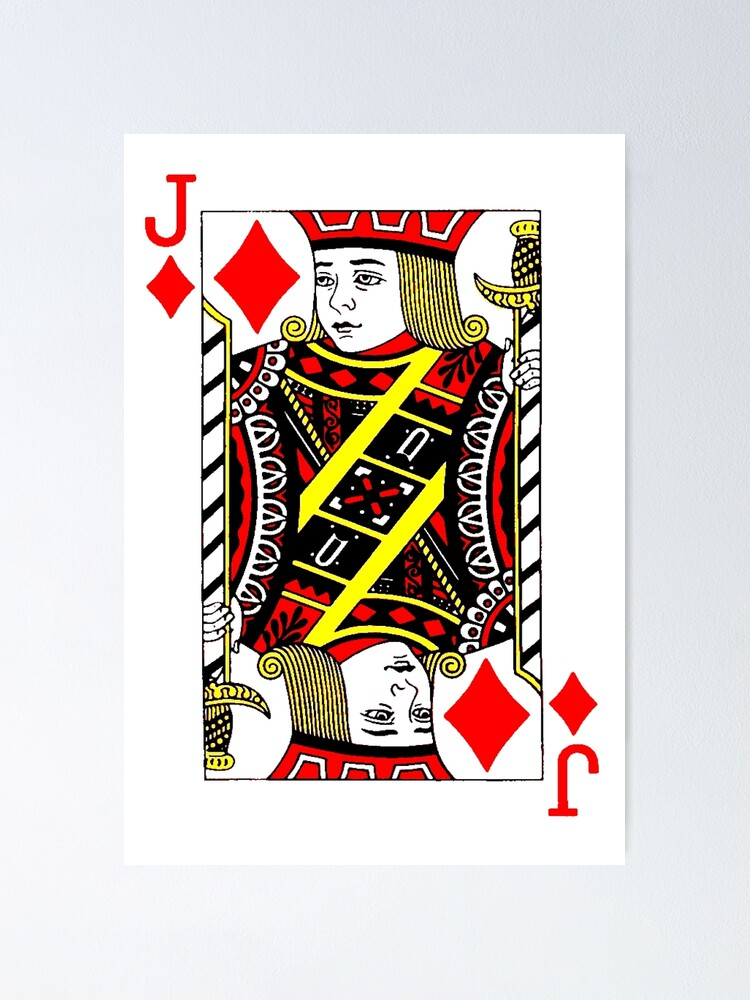jack of diamonds: (121, 130, 629, 864)
